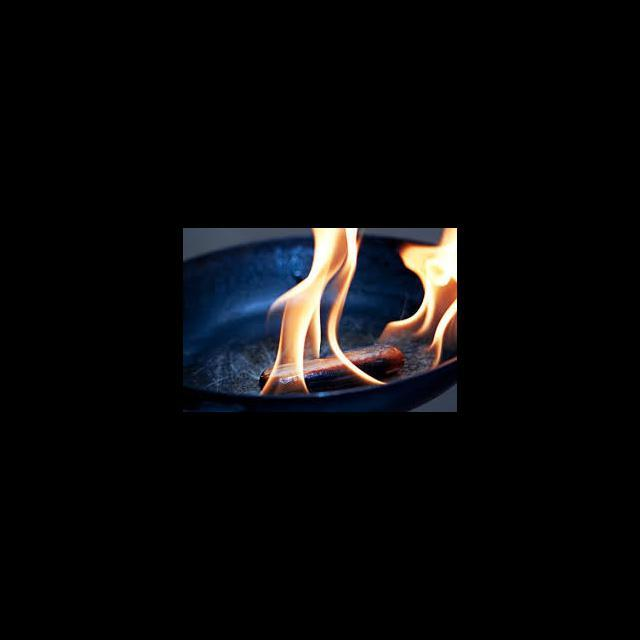Fire: (259, 228, 390, 398), (377, 228, 456, 367)
